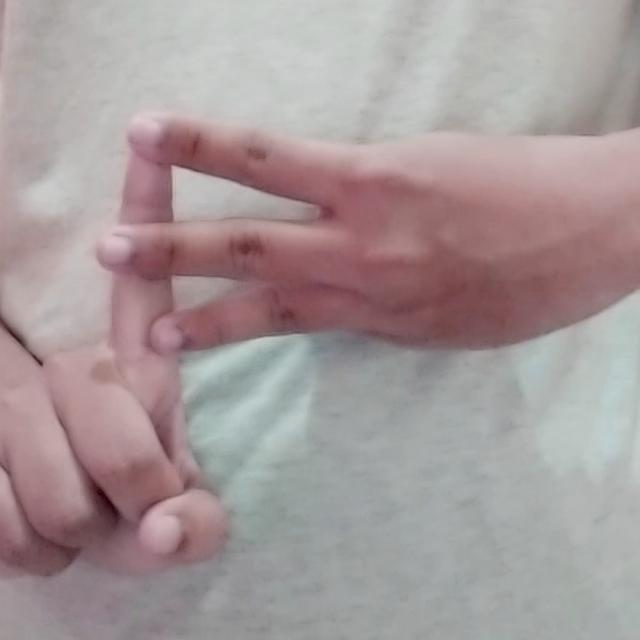B: (4, 105, 591, 585)
